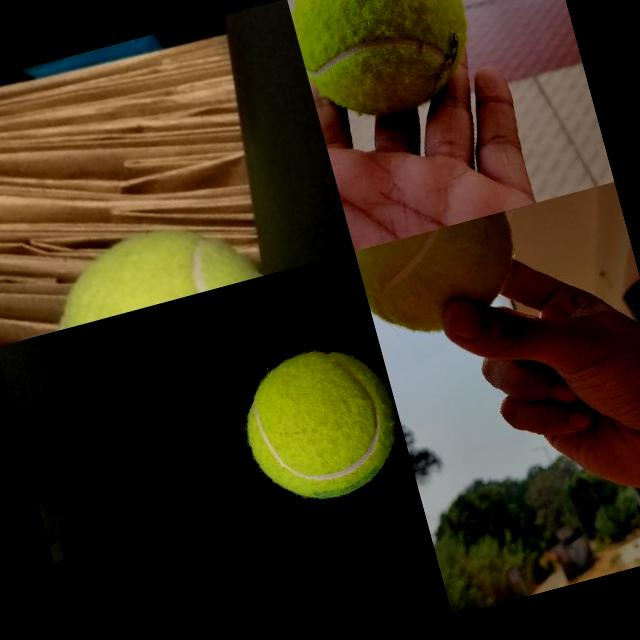tennis-ball: (230, 332, 412, 514), (29, 203, 269, 332), (286, 0, 486, 135), (354, 210, 530, 346)
